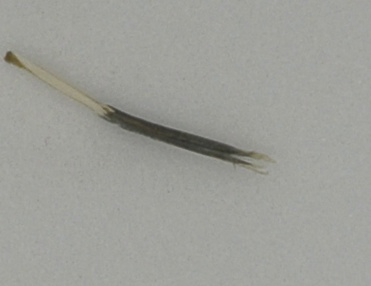เมล้ดปลายพู่กัน: (4, 50, 280, 179)
